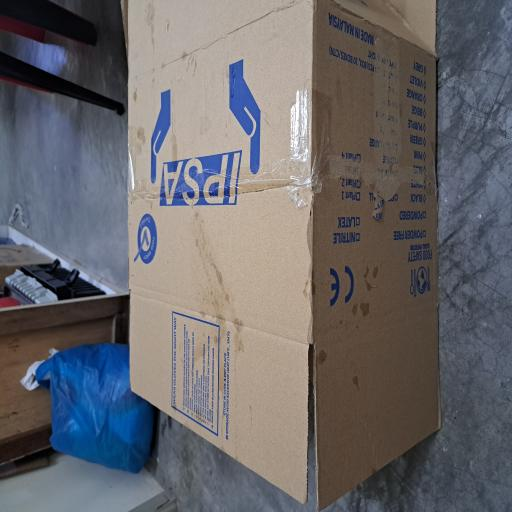cardboard: (0, 161, 384, 512)
plastic bag: (28, 49, 126, 201)
